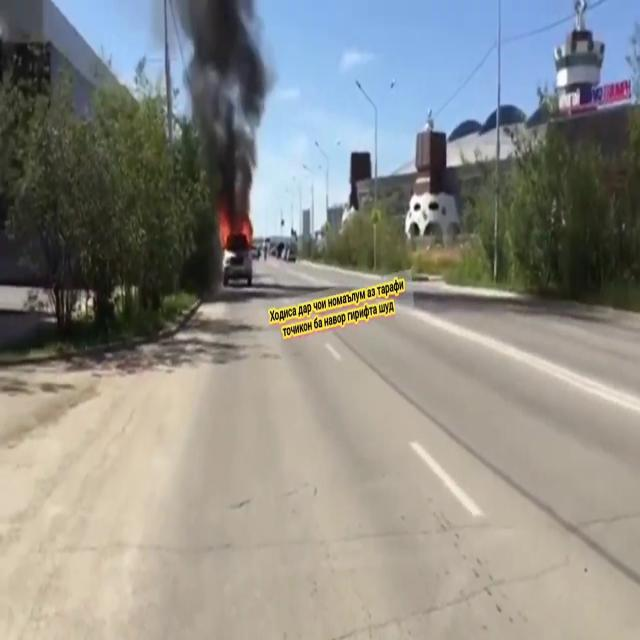Fire: (218, 207, 235, 260)
Smoke: (170, 0, 272, 218)
